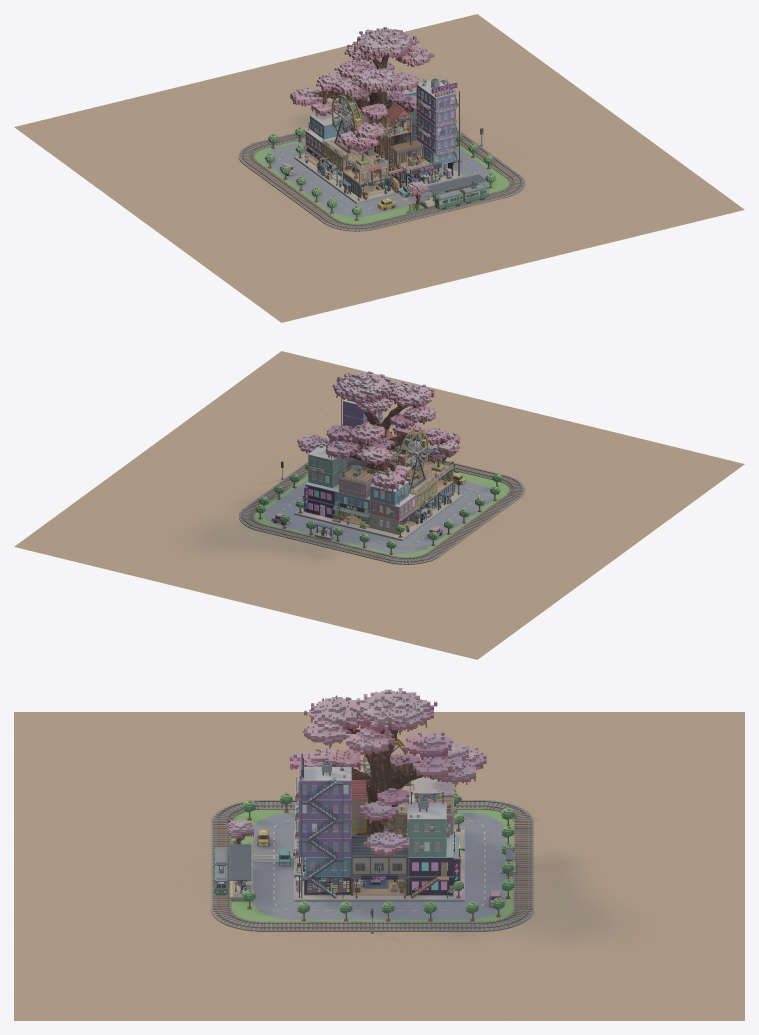
The model's file is diorama.glb.
3 renders of one model, top to bottom at view 1: azimuth 30°, elevation 25°; view 2: azimuth 150°, elevation 25°; view 3: azimuth 270°, elevation 25°, orthographic. The views are drawn at different scales.
Parts seen in each view (by area): view 1: Boden.001, Baum_Krone, Strassen, Gleise, Turm, Spielhalle, Baum_Stamm, Gruen, Nordwest, Fundament, Atelier, Elektronikladen (+4 smaller); view 2: Boden.001, Baum_Krone, Strassen, Gleise, Nordost, Nordwest, Kiosk, Gruen, Fundament, Baum_Stamm, Elektronikladen, Riesenrad_Rad (+1 smaller); view 3: Boden.001, Strassen, Baum_Krone, Gleise, Turm, Nordost, Gruen, Baum_Stamm, Uhrmacher, Fundament, Bahnhof, Spielhalle (+5 smaller).
Boxes of the visible parts, x1,y1,x2,y2 form: Boden.001: (14,14,744,322); Baum_Krone: (290,26,458,177); Strassen: (254,116,509,224); Gleise: (238,110,525,231); Turm: (416,79,459,174); Spielhalle: (389,140,453,187); Baum_Stamm: (308,55,413,192); Gruen: (265,127,495,220); Nordwest: (304,111,348,166); Fundament: (294,154,464,203); Atelier: (375,102,412,177); Elektronikladen: (321,138,363,185); Boden.001: (14,351,744,659); Baum_Krone: (297,371,460,510); Strassen: (254,465,509,557); Gleise: (238,459,525,564); Nordost: (302,444,347,518); Nordwest: (369,480,417,534); Kiosk: (332,464,377,528); Gruen: (255,463,502,554); Fundament: (294,491,464,540); Baum_Stamm: (320,404,449,476); Elektronikladen: (404,473,437,519); Riesenrad_Rad: (398,430,428,477); Boden.001: (14,712,744,1020); Strassen: (232,809,512,921); Baum_Krone: (279,688,486,877); Gleise: (210,800,533,931); Turm: (295,753,351,898); Nordost: (407,802,460,898); Gruen: (242,792,515,921); Baum_Stamm: (293,728,436,855); Uhrmacher: (350,835,408,895); Fundament: (294,827,464,901); Bahnhof: (229,839,515,901); Spielhalle: (297,857,351,895).
Size of what is drawn, in the model's own units: 104 by 27.25 by 104.
